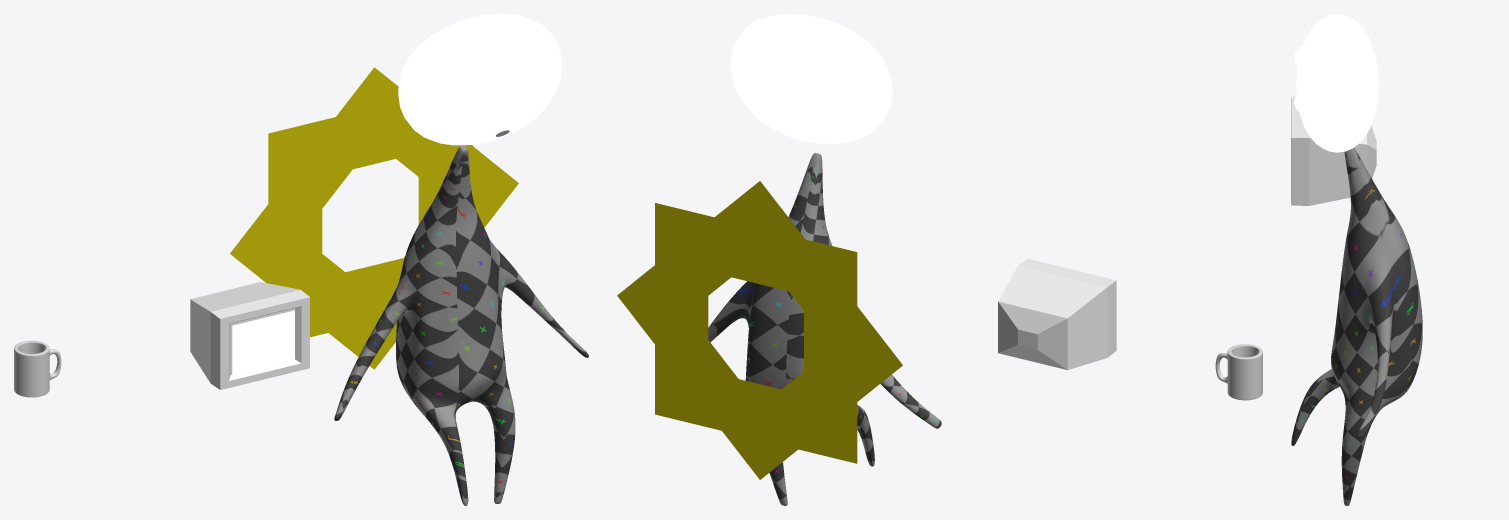
Rendered from parts.606a4aea.glb.
3 renders of one model, left to right at view 1: azimuth 30°, elevation 25°; view 2: azimuth 150°, elevation 25°; view 3: azimuth 270°, elevation 25°, orthographic. The views are drawn at different scales.
Visible parts, largest first — view 1: square, body, head, monitor, display, cup; view 2: square, head, monitor, body, cup; view 3: body, head, monitor, eye2.
Part boxes in pixels (x1,y1,x2,y2): square: (230, 67, 518, 369); body: (334, 145, 588, 505); head: (398, 14, 561, 145); monitor: (190, 282, 309, 389); display: (232, 310, 294, 374); cup: (14, 340, 61, 397); square: (617, 181, 902, 479); head: (730, 14, 892, 143); monitor: (998, 259, 1116, 369); body: (708, 153, 941, 505); cup: (1215, 344, 1262, 400); body: (1291, 148, 1422, 505); head: (1296, 14, 1378, 152); monitor: (1291, 96, 1376, 205); eye2: (1294, 89, 1309, 114).
Size of the model in its own units: 36.84 by 29.98 by 11.83.
7 materials, 1 textured.
